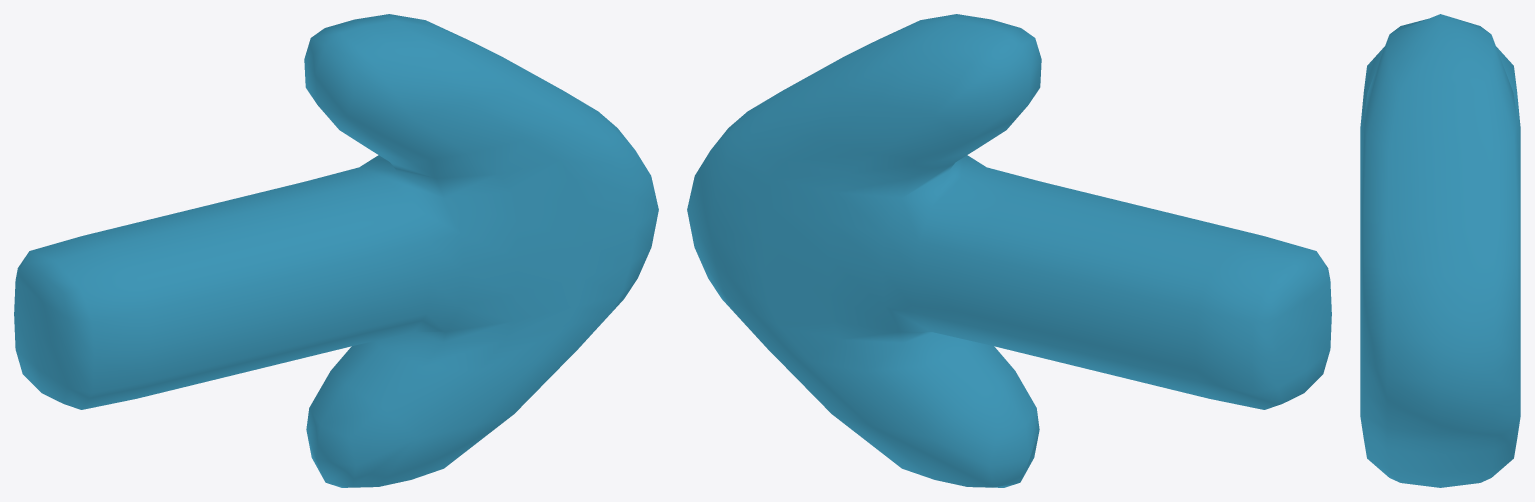
Rendered from arrow_blue.glb.
3 renders of one model, left to right at view 1: azimuth 30°, elevation 25°; view 2: azimuth 150°, elevation 25°; view 3: azimuth 270°, elevation 25°, orthographic.
Visible parts, largest first — view 1: Cube.009; view 2: Cube.009; view 3: Cube.009.
Part boxes in pixels (x1,y1,x2,y2): Cube.009: [14, 14, 658, 487]; Cube.009: [687, 14, 1331, 487]; Cube.009: [1360, 14, 1520, 487].
Bounding box in the file's own units: 4.39 × 3.17 × 1.02.
1 material, 1 textured.
